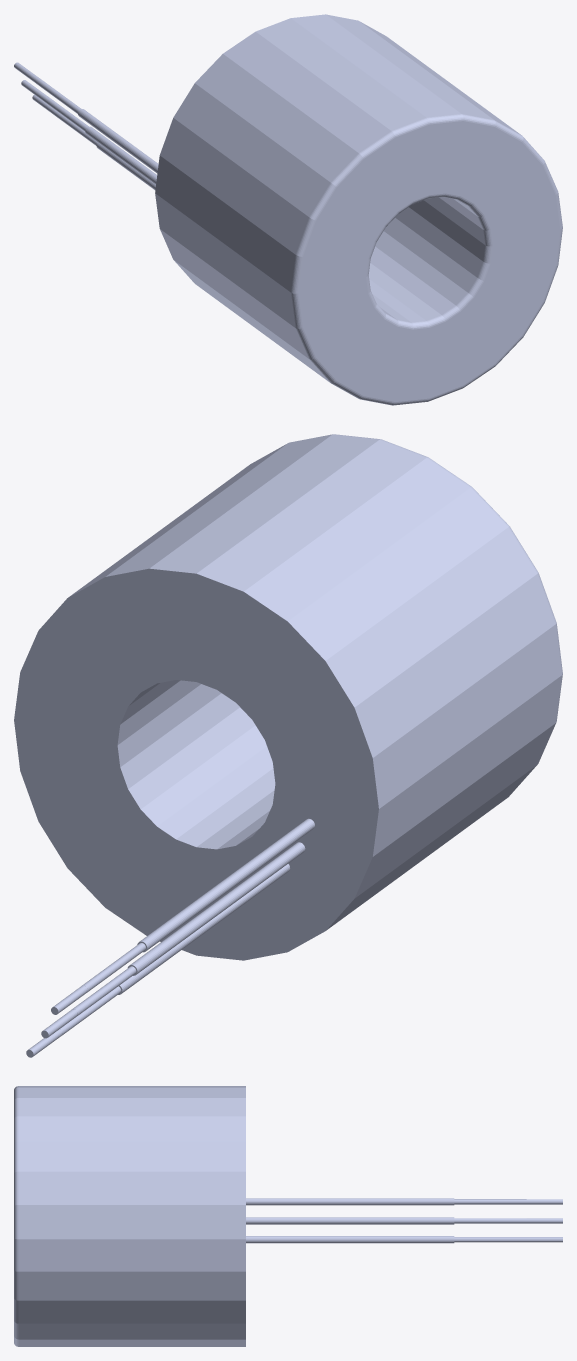
The model's file is T200_T200STEP_T200STEPSTEP_T200_CORE_T200_CORE_STDSTEPSTEP_T200_ASM_STATOR_POTTED_R1BSTEPSTEP_T200STEP1_T200STEP1.obj.
3 views of the same model, one above another, from view 1: azimuth 30°, elevation 25°; view 2: azimuth 150°, elevation 25°; view 3: azimuth 270°, elevation 25° (orthographic). The views are drawn at different scales.
Bounding box in the file's own units: 0.0289 × 0.0289 × 0.0606.
